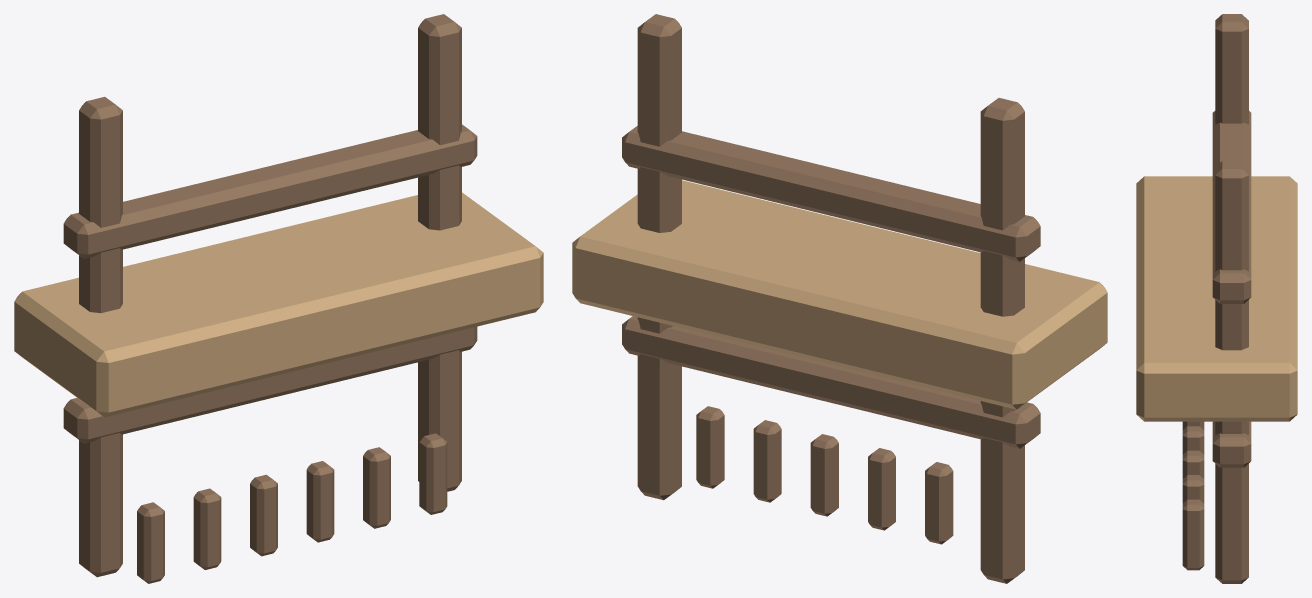
Rendered from weapon_rack.glb.
3 renders of one model, left to right at view 1: azimuth 30°, elevation 25°; view 2: azimuth 150°, elevation 25°; view 3: azimuth 270°, elevation 25°, orthographic. The views are drawn at different scales.
Parts seen in each view (by area): view 1: weapon_rack_0, weapon_rack_1; view 2: weapon_rack_1, weapon_rack_0; view 3: weapon_rack_0, weapon_rack_1.
Part boxes in pixels (x1=…): weapon_rack_0: x1=14, y1=192, x2=543, y2=417; weapon_rack_1: x1=63, y1=14, x2=477, y2=583; weapon_rack_1: x1=622, y1=14, x2=1040, y2=583; weapon_rack_0: x1=572, y1=180, x2=1107, y2=409; weapon_rack_0: x1=1136, y1=176, x2=1297, y2=421; weapon_rack_1: x1=1182, y1=14, x2=1251, y2=583.
Size of the model in its own units: 2 by 2 by 0.7059.
